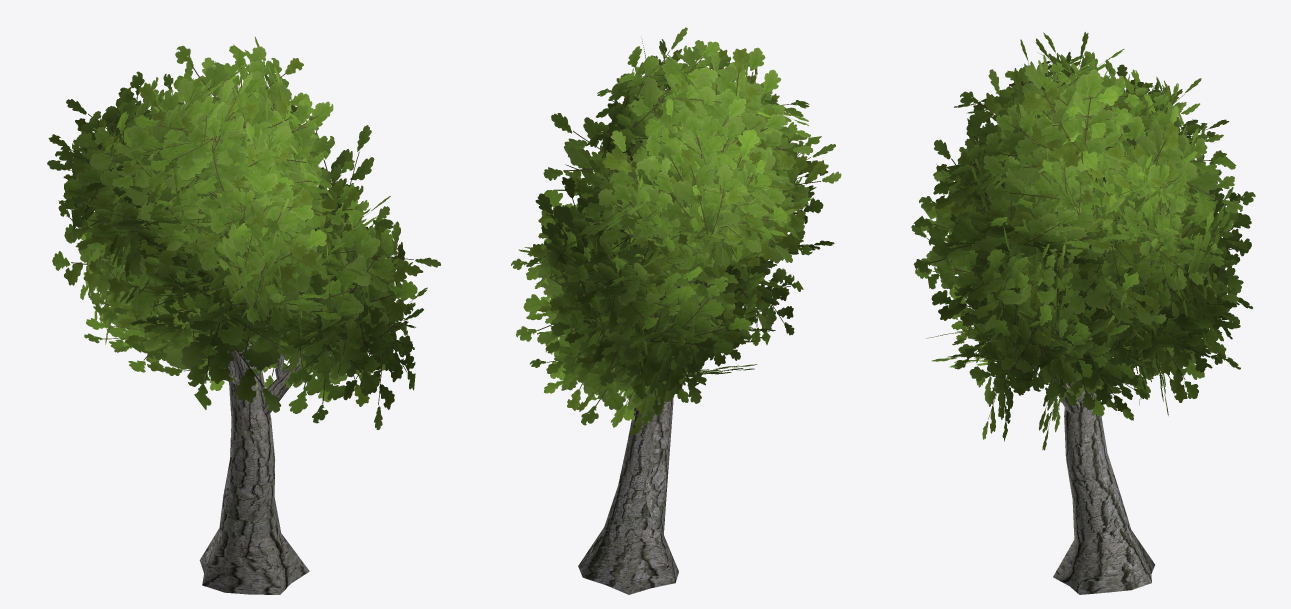
Rendered from tree_oak.glb.
3 renders of one model, left to right at view 1: azimuth 30°, elevation 25°; view 2: azimuth 150°, elevation 25°; view 3: azimuth 270°, elevation 25°, orthographic. The views are drawn at different scales.
Parts seen in each view (by area): view 1: plant; view 2: plant; view 3: plant.
Part boxes in pixels (box(x1,y1,x2,y2)): plant: box(47, 36, 440, 594); plant: box(511, 27, 841, 594); plant: box(911, 32, 1255, 594).
Size of the model in its own units: 4.48 by 6.91 by 4.55.
Materials: 2 (2 with a texture image).
